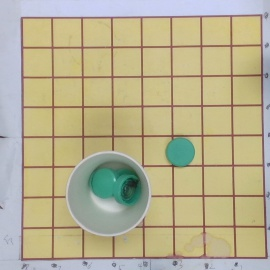cup_green: (66, 151, 155, 236)
green: (164, 138, 195, 167)
